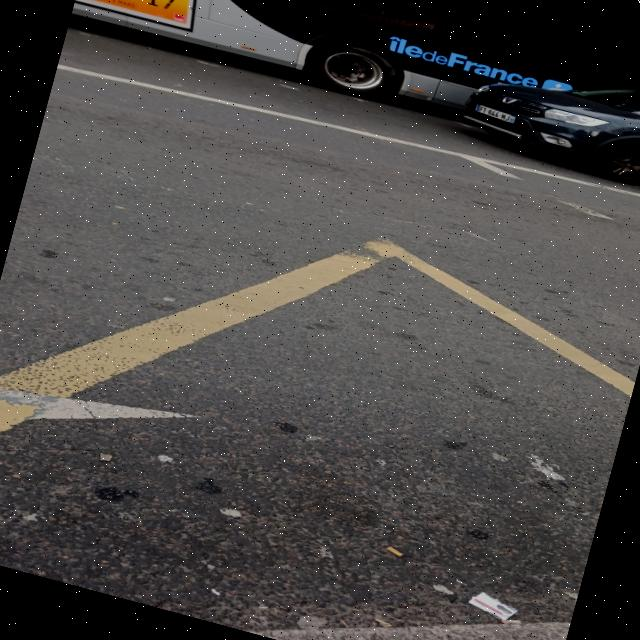Autre: (473, 102, 532, 128)
